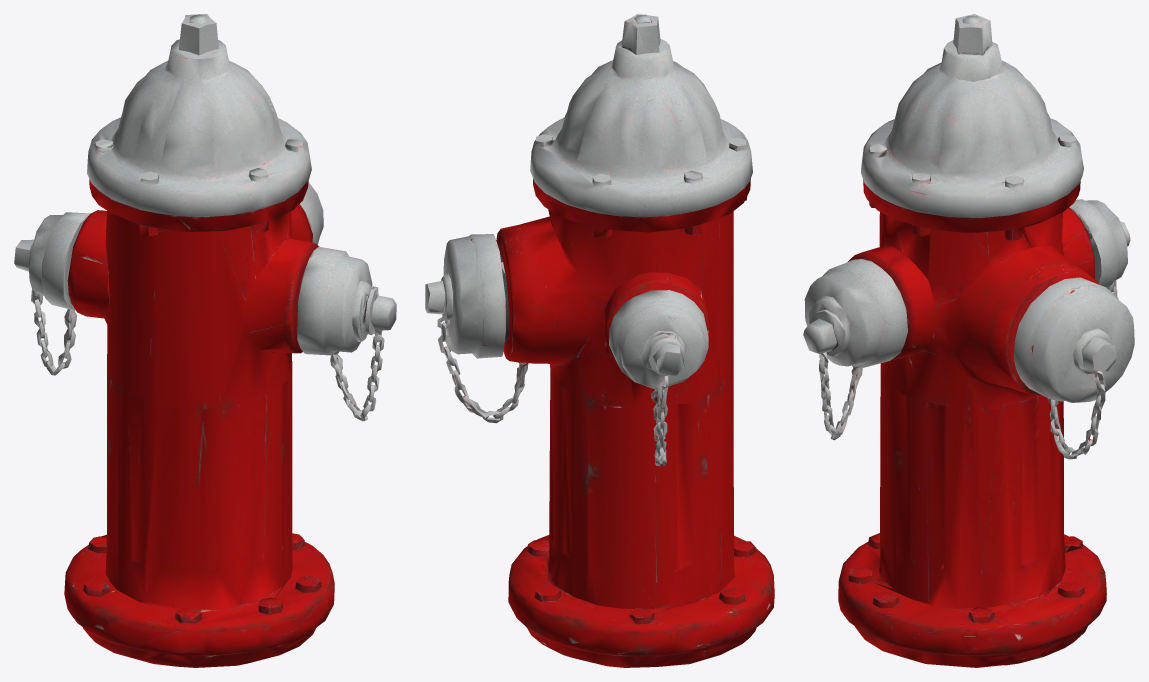
The model's file is hydrant.glb.
3 views of the same model, side by side, from view 1: azimuth 30°, elevation 25°; view 2: azimuth 150°, elevation 25°; view 3: azimuth 270°, elevation 25° (orthographic).
Parts seen in each view (by area): view 1: hydrant; view 2: hydrant; view 3: hydrant.
Part boxes in pixels (x1,y1,x2,y2): hydrant: [14, 14, 396, 667]; hydrant: [425, 14, 774, 667]; hydrant: [803, 14, 1134, 667].
Bounding box in the file's own units: 0.3619 × 0.75 × 0.3753.
1 material, 1 textured.
